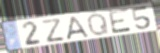2: (21, 20, 43, 48)
5: (130, 5, 153, 31)
A: (66, 15, 90, 41)
E: (107, 8, 133, 35)
Q: (86, 12, 111, 37)
Z: (40, 17, 67, 44)
